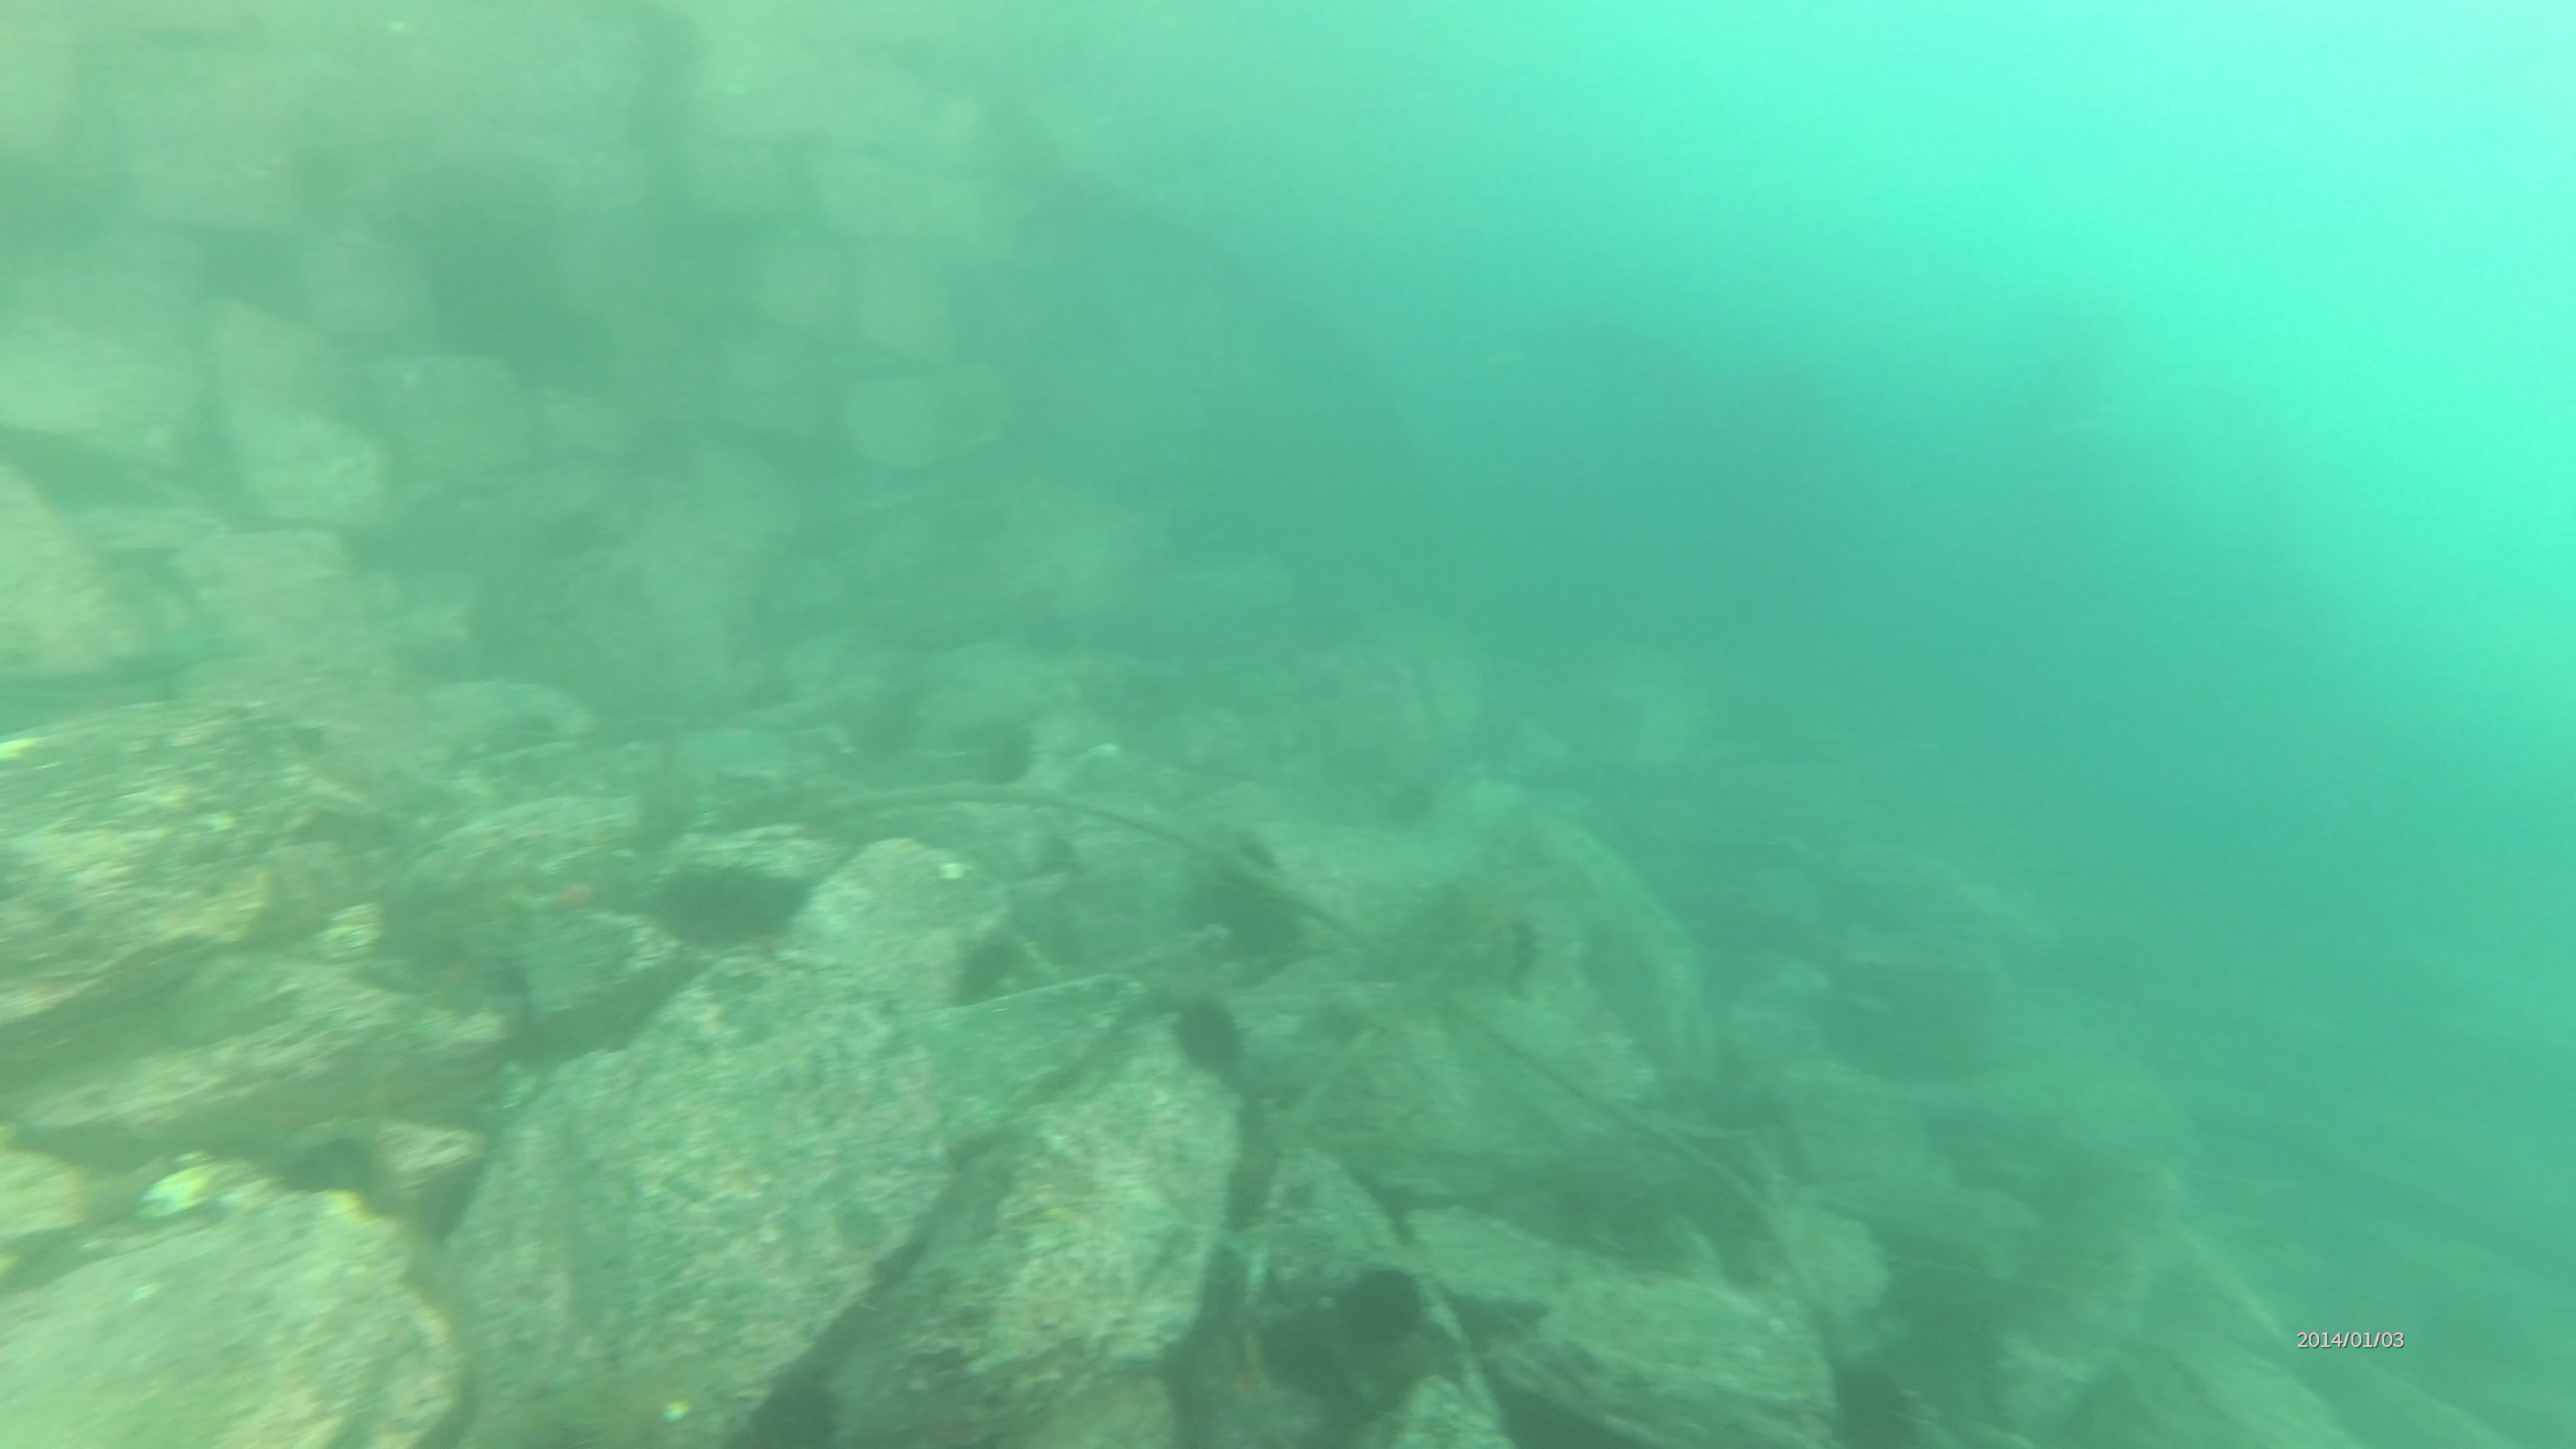echinus: (663, 856, 801, 948), (1330, 1256, 1431, 1350), (1171, 989, 1249, 1077)
